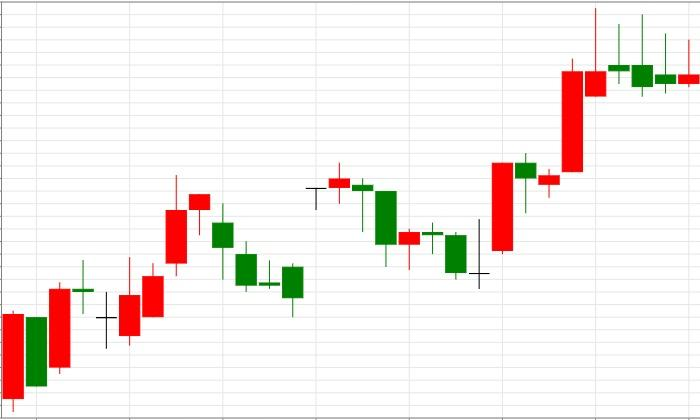evening_star_fall: (95, 174, 233, 349)
morning_star_rise: (329, 162, 513, 289)
